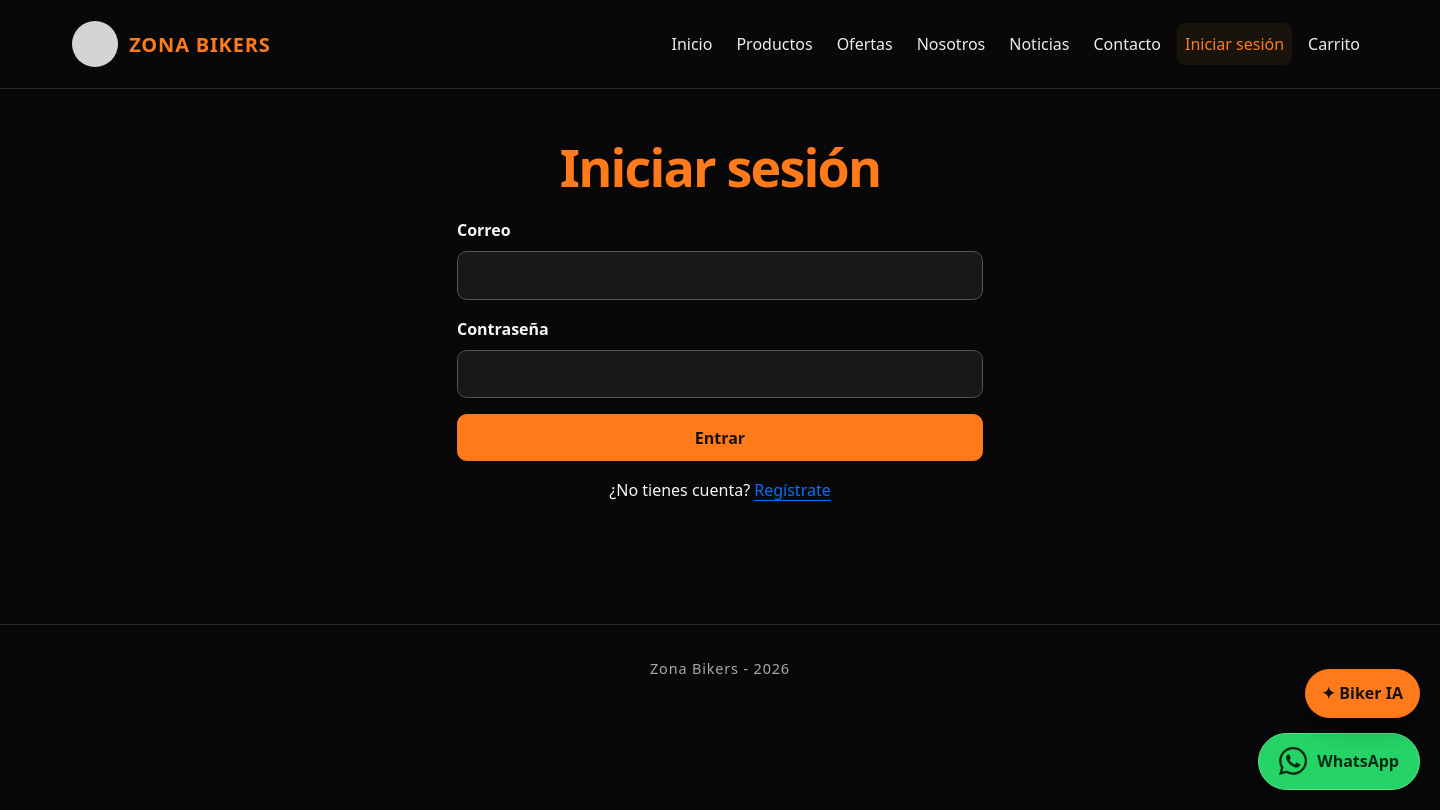
Test: Formularios públicos › valida login vacío y rechaza credenciales incorrectas
Click the button "Entrar" at (720, 438), box [457, 414, 983, 461]
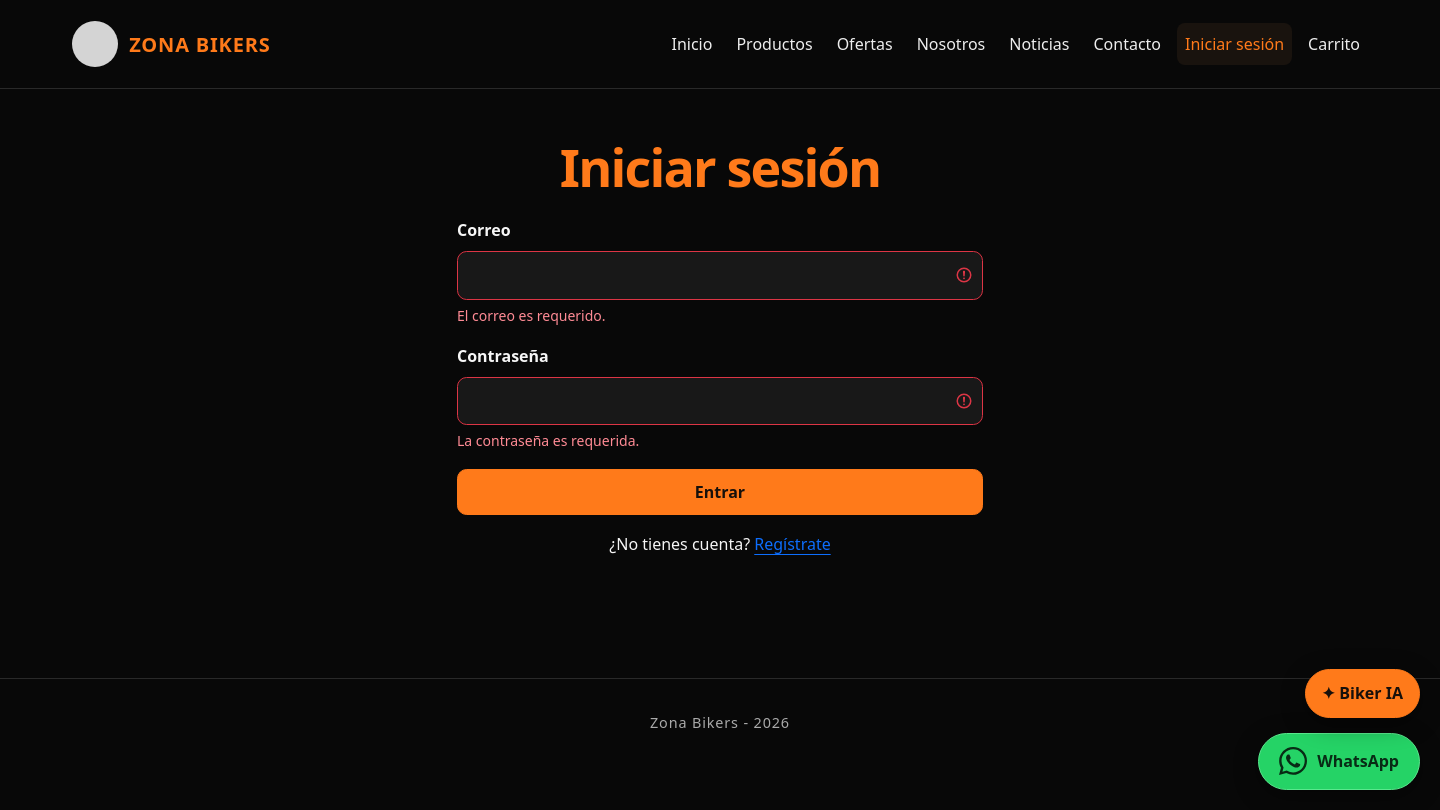
Now the text "El correo es requerido." is shown, box [457, 306, 606, 325]
Type "admin@duoc.cl" into the field labelled "Correo" at (720, 275), box [457, 251, 983, 300]
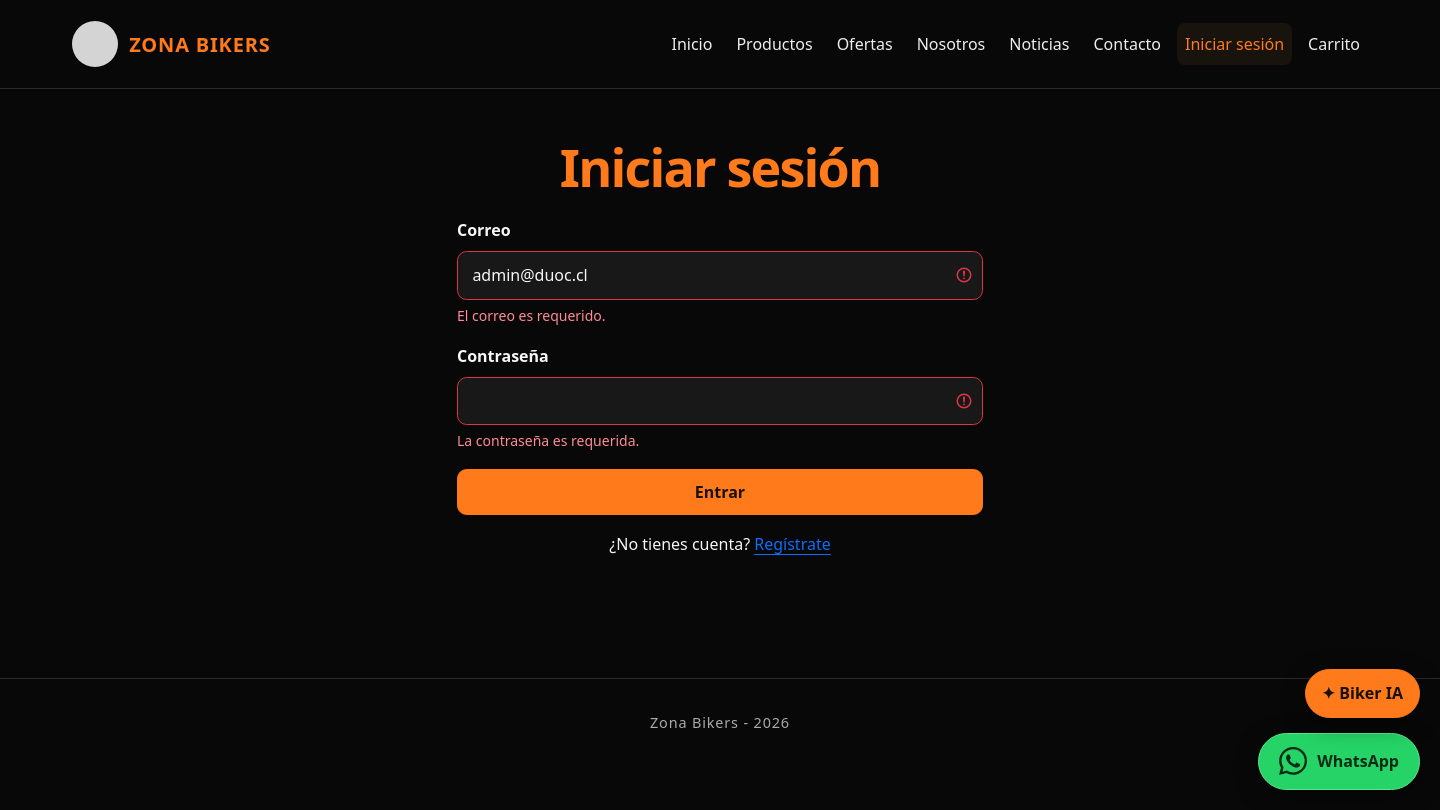
Type "xxxx" into the password field labelled "Contraseña" at (720, 401), box [457, 377, 983, 425]
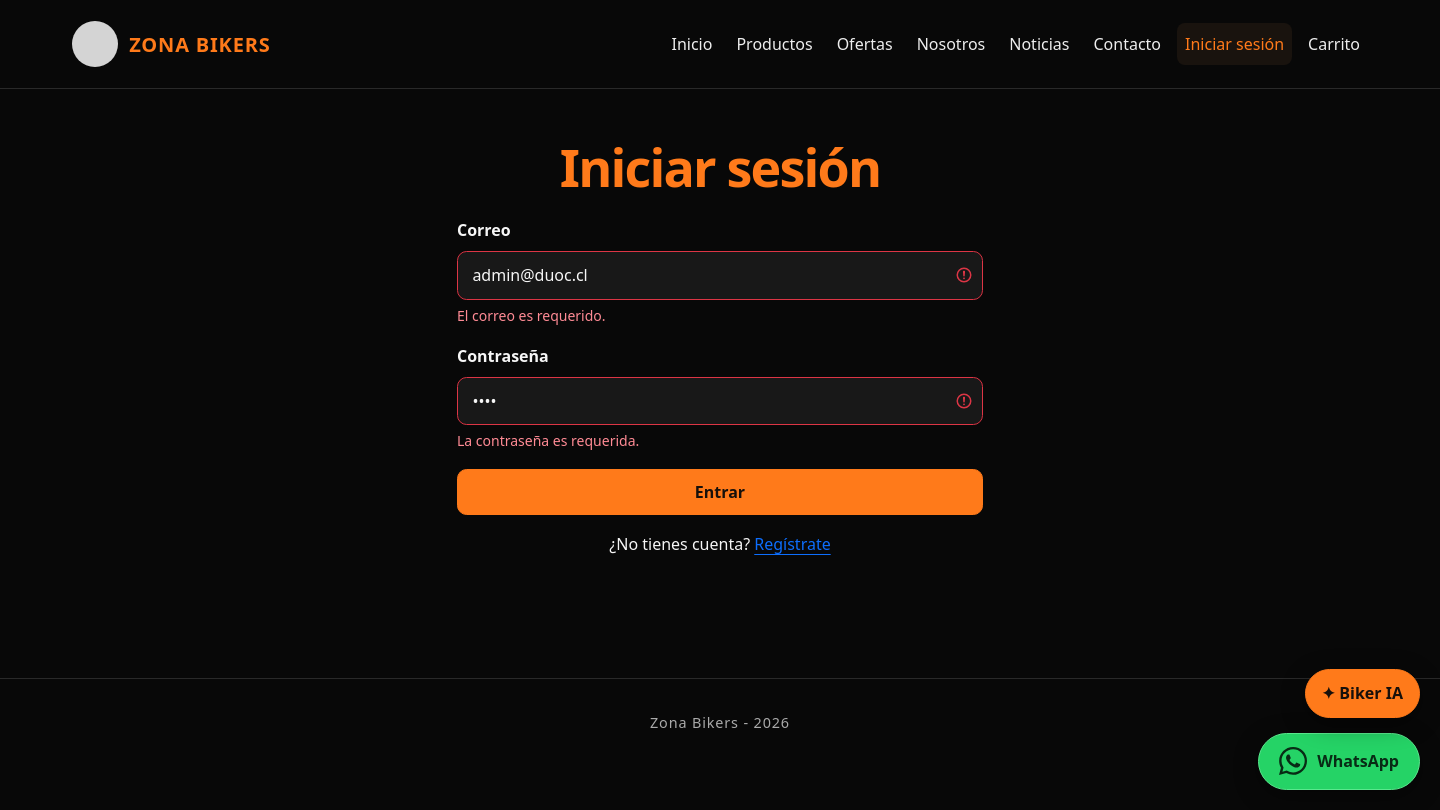
Click the button "Entrar" at (720, 492), box [457, 468, 983, 515]
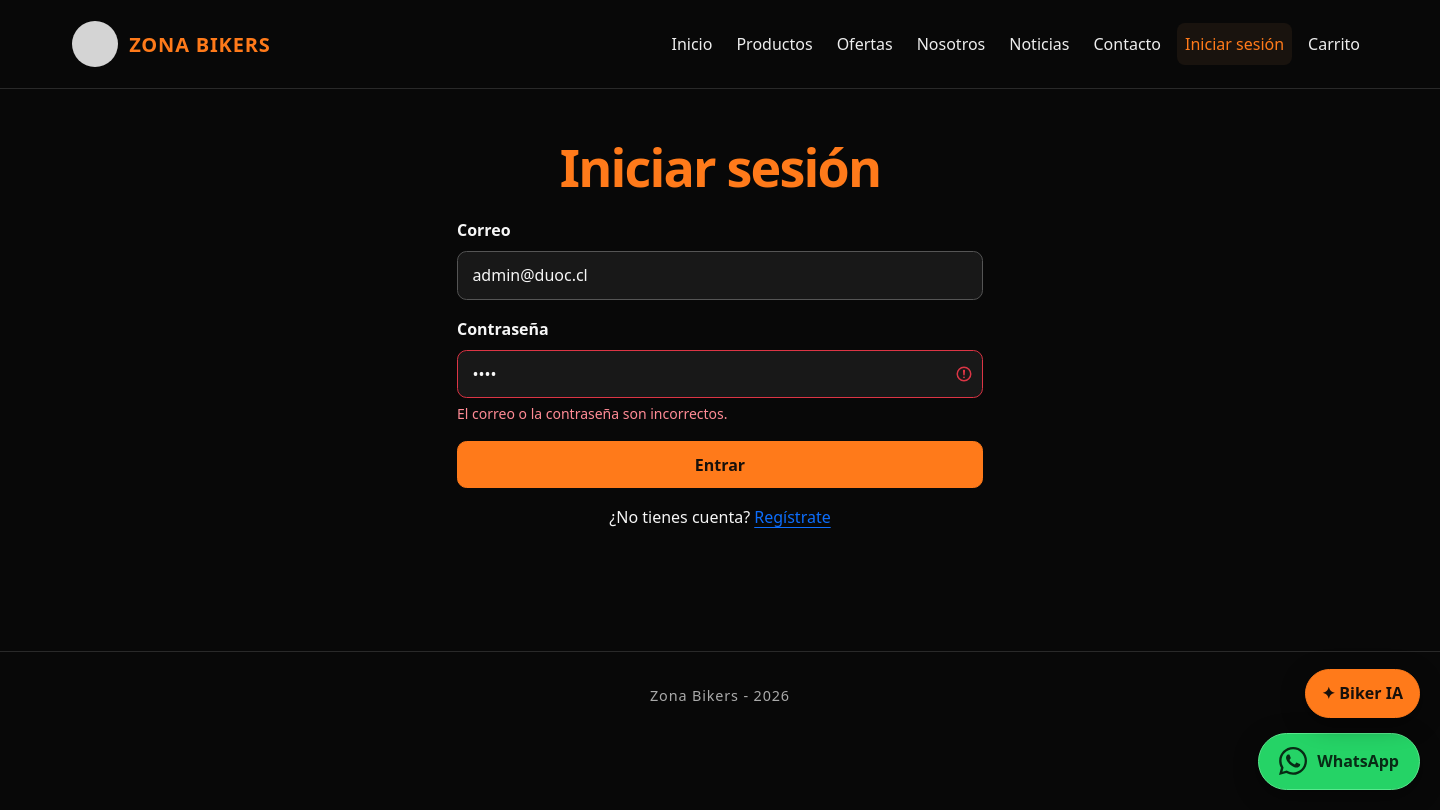
Now the text "El correo o la contraseña son incorrectos." is shown, box [457, 404, 728, 423]
